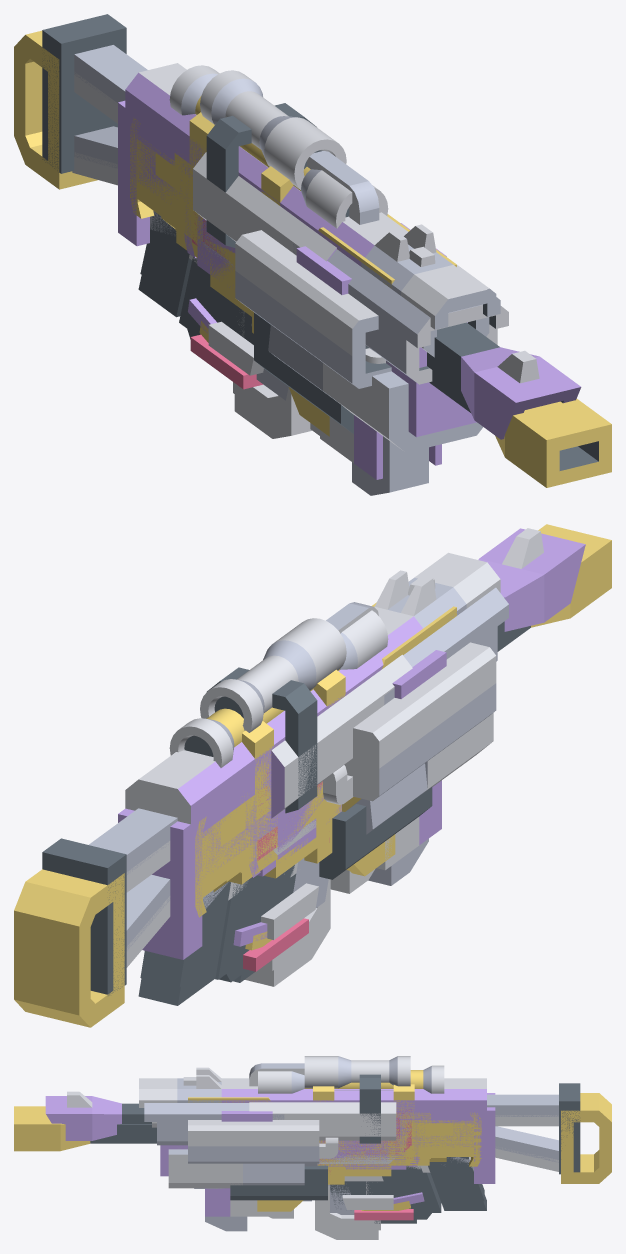
Rendered from weapons.glb.
3 views of the same model, one above another, from view 1: azimuth 30°, elevation 25°; view 2: azimuth 150°, elevation 25°; view 3: azimuth 270°, elevation 25° (orthographic). The views are drawn at different scales.
Visible parts, largest first — view 1: blasterF, blasterE, blasterA, blasterL, blasterD, blasterG, blasterM, blasterI, blasterC, blasterJ, blasterB, blasterK; view 2: blasterE, blasterF, blasterA, blasterL, blasterD, blasterG, blasterM, blasterI, blasterB, blasterK, blasterC, blasterH; view 3: blasterE, blasterF, blasterA, blasterL, blasterM, blasterD, blasterG, blasterI, blasterB, blasterJ, blasterC, blasterK.
Part boxes in pixels (left/top/right/bottom): blasterF: left=42, top=14, right=581, bottom=439; blasterE: left=14, top=30, right=611, bottom=487; blasterA: left=125, top=63, right=500, bottom=495; blasterL: left=180, top=145, right=496, bottom=388; blasterD: left=118, top=100, right=482, bottom=452; blasterG: left=130, top=118, right=508, bottom=384; blasterM: left=161, top=179, right=456, bottom=433; blasterI: left=184, top=157, right=441, bottom=479; blasterC: left=190, top=214, right=262, bottom=389; blasterJ: left=174, top=153, right=235, bottom=322; blasterB: left=203, top=219, right=263, bottom=375; blasterK: left=199, top=248, right=329, bottom=436; blasterE: left=14, top=524, right=611, bottom=1027; blasterF: left=42, top=528, right=585, bottom=995; blasterA: left=125, top=552, right=500, bottom=982; blasterL: left=233, top=642, right=496, bottom=946; blasterD: left=118, top=576, right=493, bottom=959; blasterG: left=195, top=587, right=508, bottom=979; blasterM: left=213, top=602, right=456, bottom=982; blasterI: left=249, top=780, right=441, bottom=907; blasterB: left=261, top=819, right=318, bottom=939; blasterK: left=245, top=834, right=395, bottom=950; blasterC: left=243, top=769, right=322, bottom=971; blasterH: left=232, top=826, right=329, bottom=941; blasterE: left=14, top=1065, right=611, bottom=1230; blasterF: left=45, top=1056, right=580, bottom=1239; blasterA: left=139, top=1063, right=486, bottom=1231; blasterL: left=188, top=1108, right=425, bottom=1204; blasterM: left=188, top=1097, right=446, bottom=1219; blasterD: left=160, top=1077, right=495, bottom=1218; blasterG: left=144, top=1090, right=481, bottom=1212; blasterI: left=205, top=1112, right=419, bottom=1216; blasterB: left=317, top=1117, right=399, bottom=1209; blasterJ: left=304, top=1116, right=431, bottom=1208; blasterC: left=303, top=1109, right=413, bottom=1220; blasterK: left=257, top=1140, right=410, bottom=1211.
Bounding box in the file's own units: 0.22 × 0.46 × 1.41.
